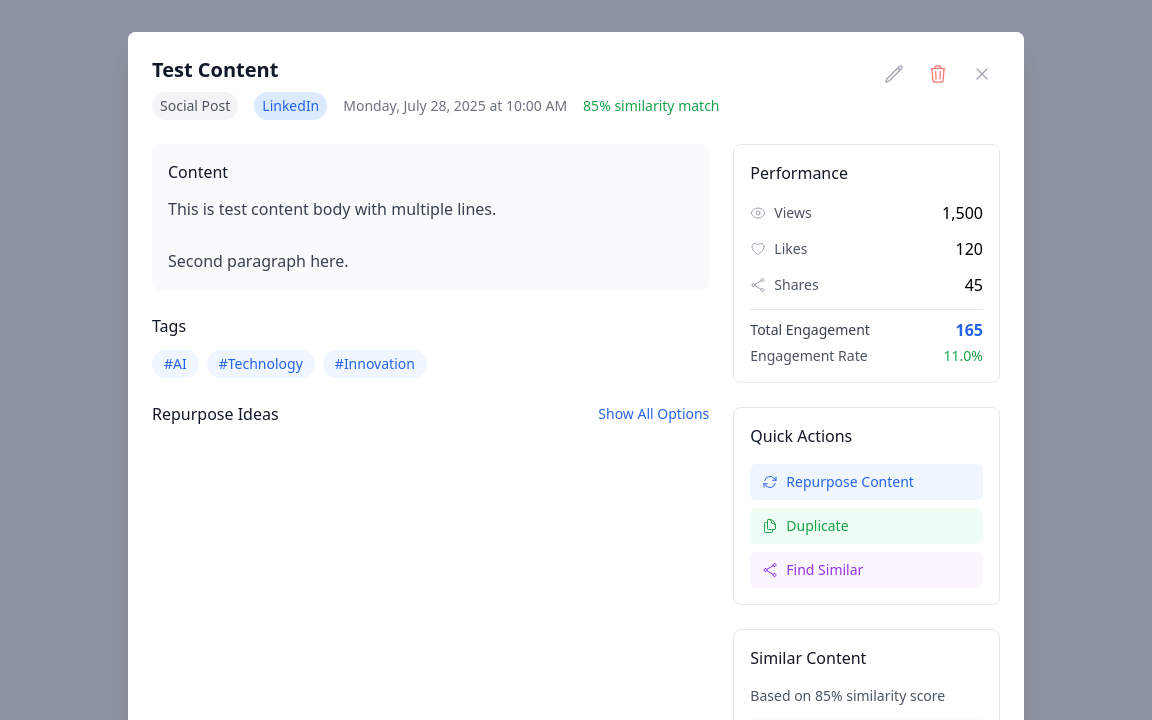
Scenario: ContentDetailModal › Repurpose Functionality › toggles repurpose options visibility
Expected: the text "Twitter Thread" is not shown
Click the button "Show All Options".
click(654, 414)  # box [598,404,709,424]
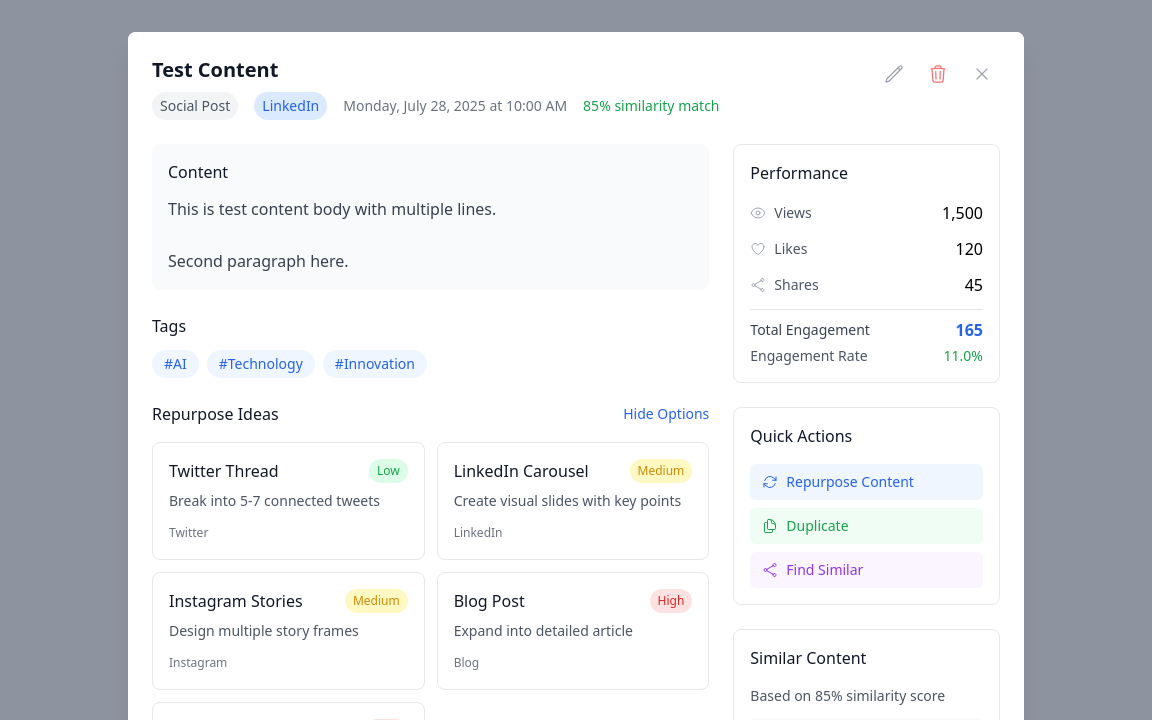
Expected: the heading "Twitter Thread" is shown, [169,459,278,483]
Expected: the heading "LinkedIn Carousel" is shown, [454,459,589,483]
Expected: the heading "Instagram Stories" is shown, [169,589,303,613]
